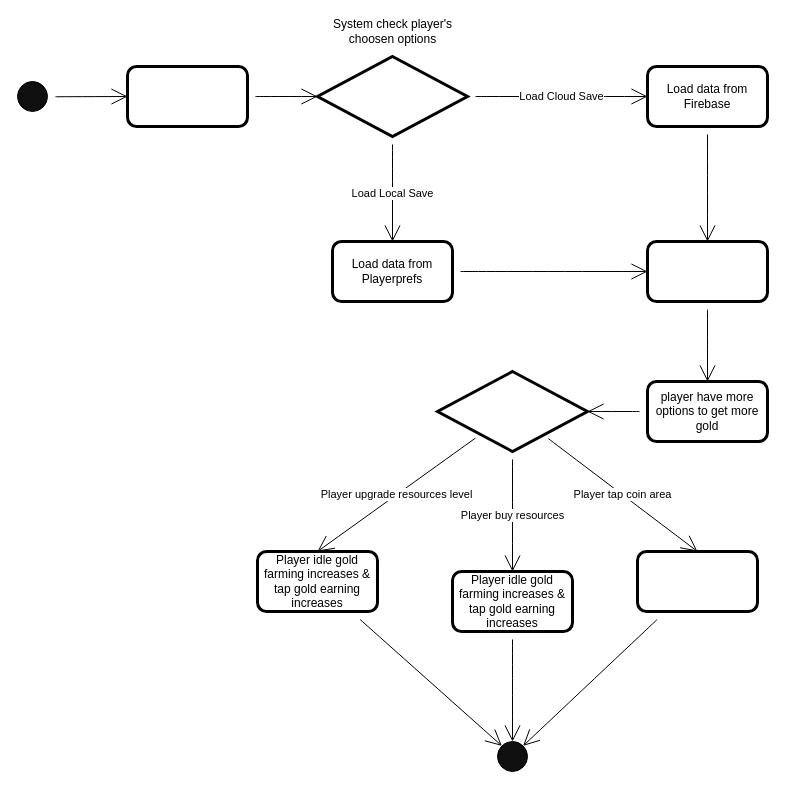
The diagram is 786 pixels wide and 789 high, and some of its shapes have lost their labels. Each missing label, with the box of its shape:
Player get gold by idle: (646, 240, 768, 302)
Player get more gold based on unlocked resources: (636, 550, 758, 612)
Player select load options: (126, 64, 248, 128)
